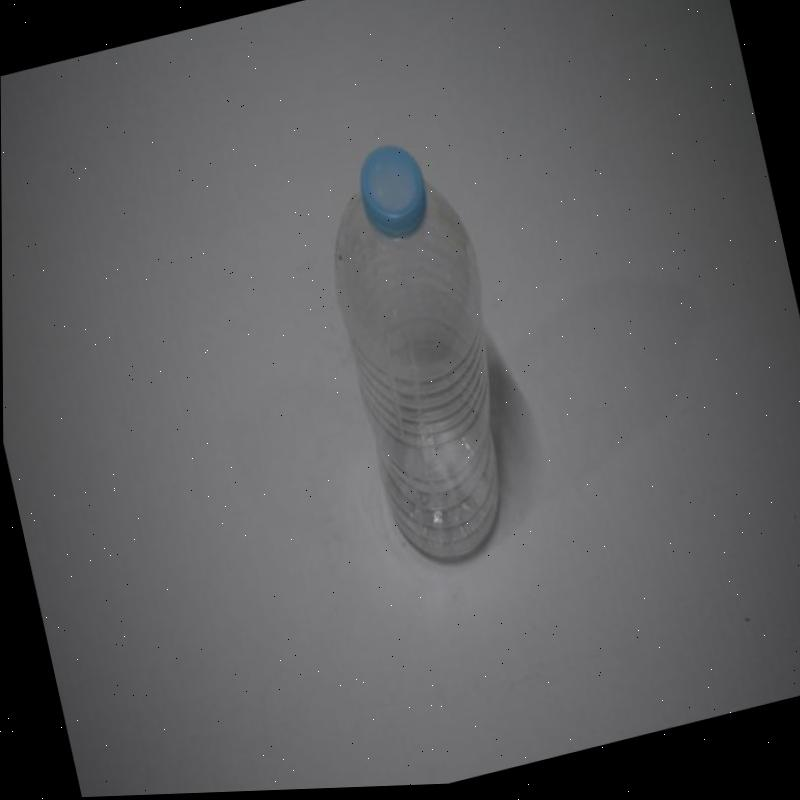botella: (307, 127, 541, 586)
